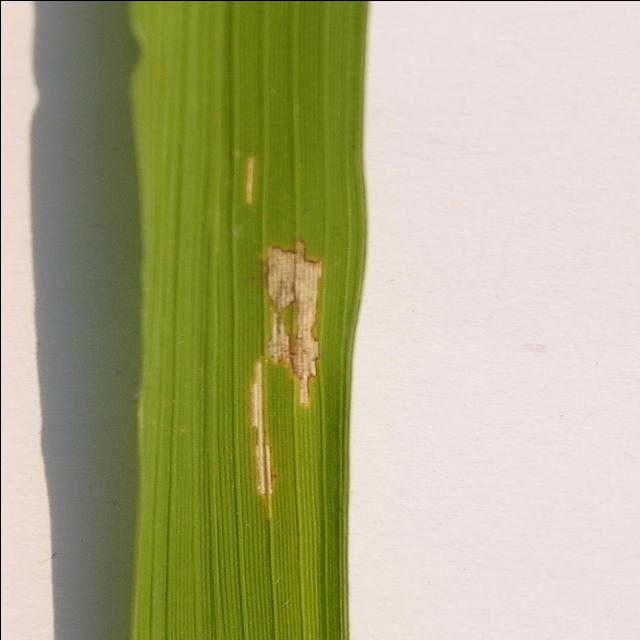Bacterial leaf blight: (88, 0, 516, 640)
